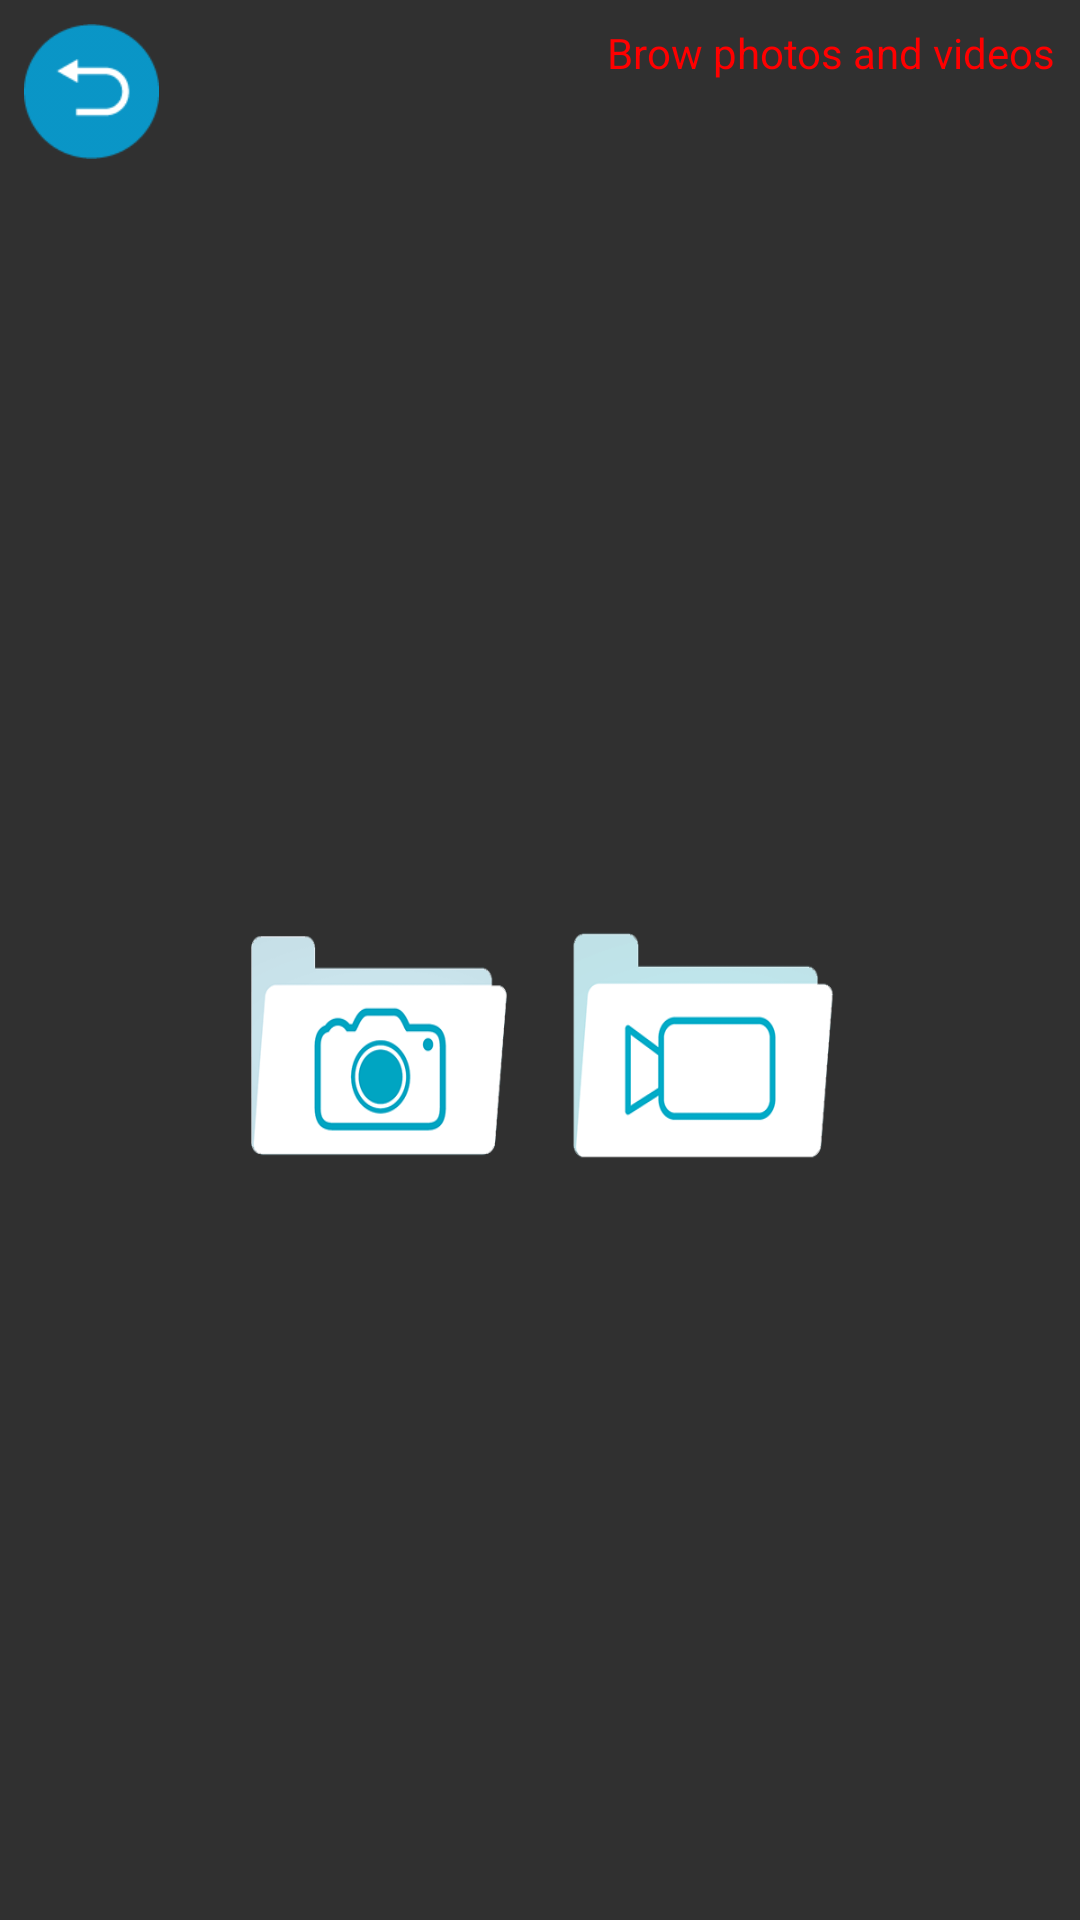

Screen size 1080×1920. Icon name, then its center in pixels as point (x, y):
back: point (91, 91)
photo iocn: point (379, 1045)
video iocn: point (703, 1045)
